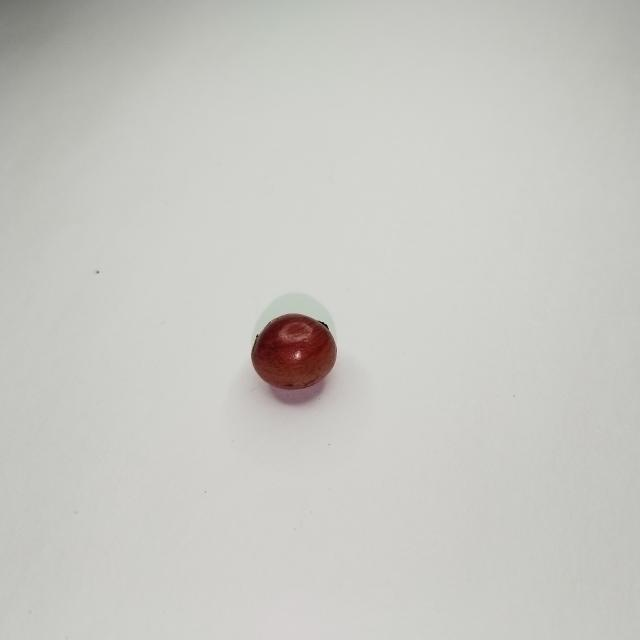Sano: (253, 316, 332, 388)
